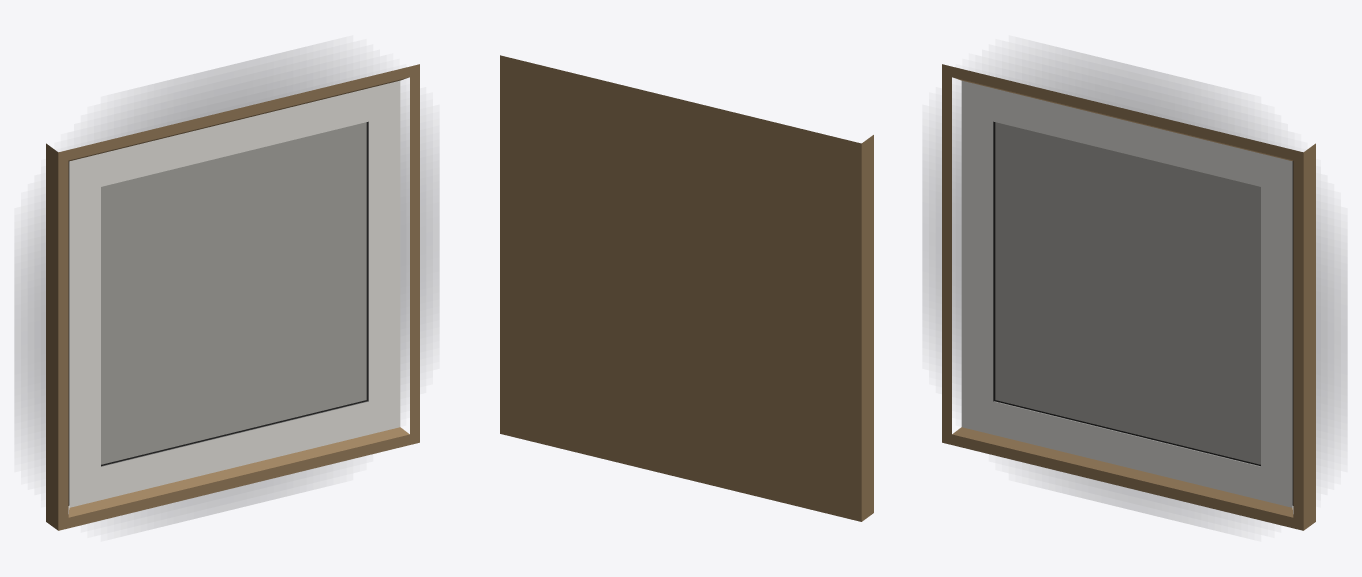
Rendered from frame-natural-oak-v3.glb.
3 views of the same model, side by side, from view 1: azimuth 30°, elevation 25°; view 2: azimuth 150°, elevation 25°; view 3: azimuth 330°, elevation 25° (orthographic).
Visible parts, largest first — view 1: FramedPrint; view 2: FramedPrint; view 3: FramedPrint.
Part boxes in pixels (<box>): FramedPrint: <box>15,50,438,530</box>; FramedPrint: <box>500,55,873,521</box>; FramedPrint: <box>923,50,1346,530</box>.
Bounding box in the file's own units: 0.668 × 0.668 × 0.034.
6 materials, 2 textured.
